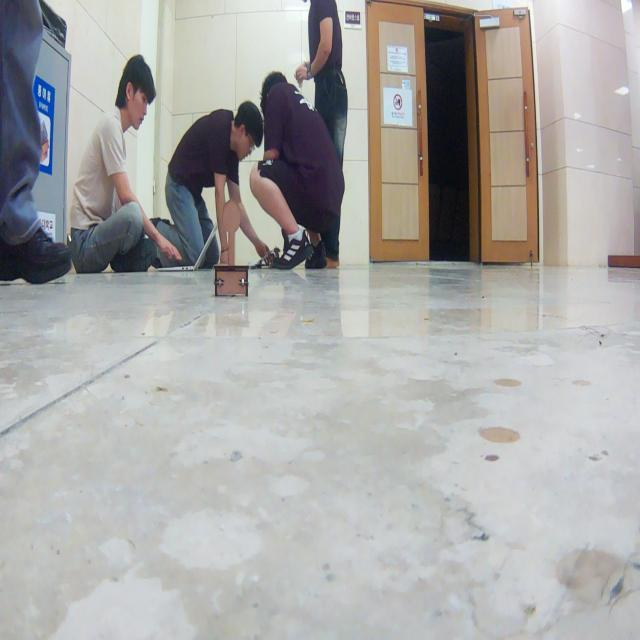target: (212, 200, 250, 298)
